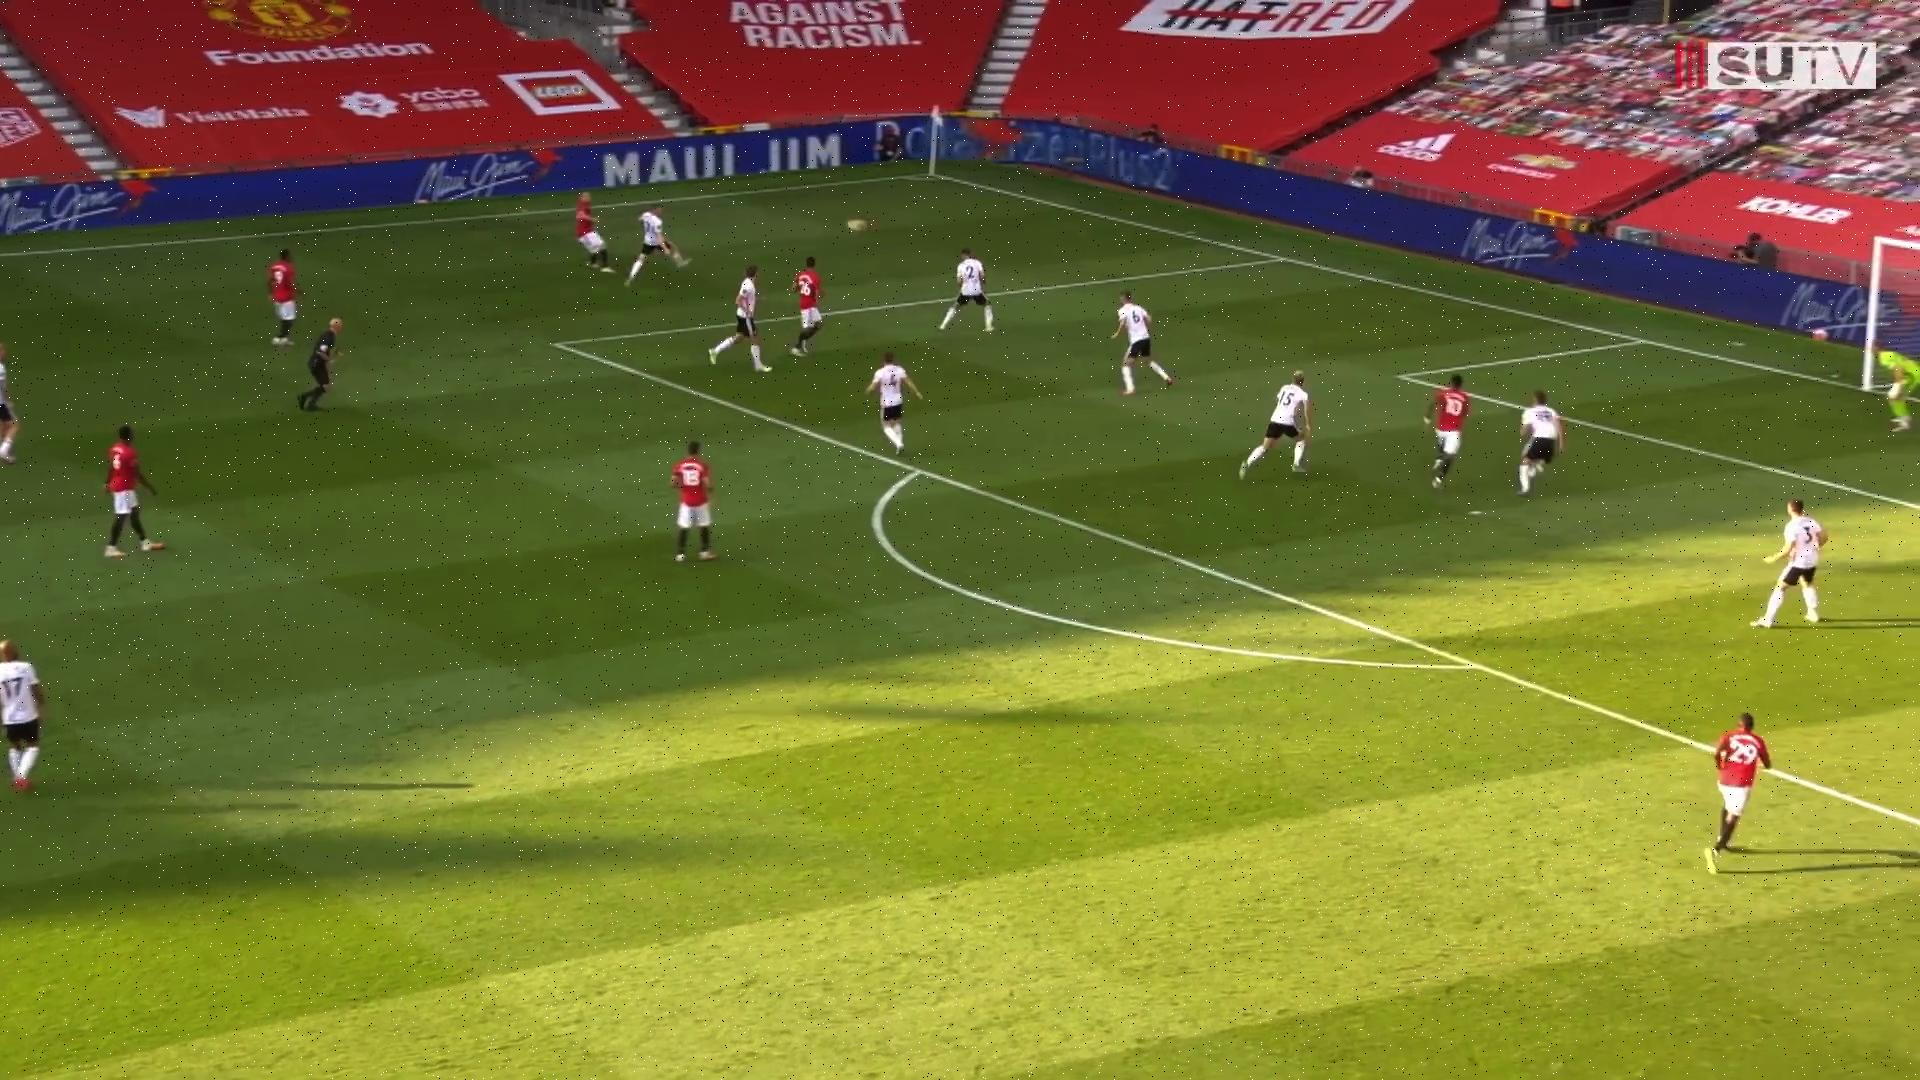ball: (1813, 326, 1836, 348), (845, 216, 870, 235)
